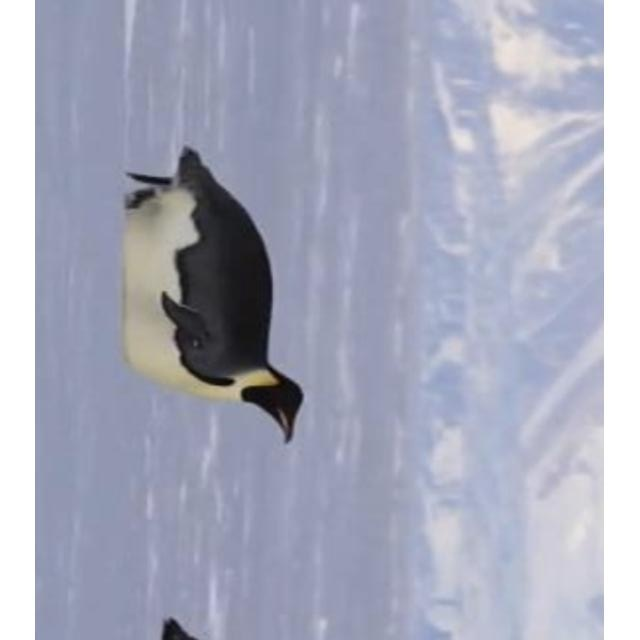penguin: (120, 145, 308, 445)
